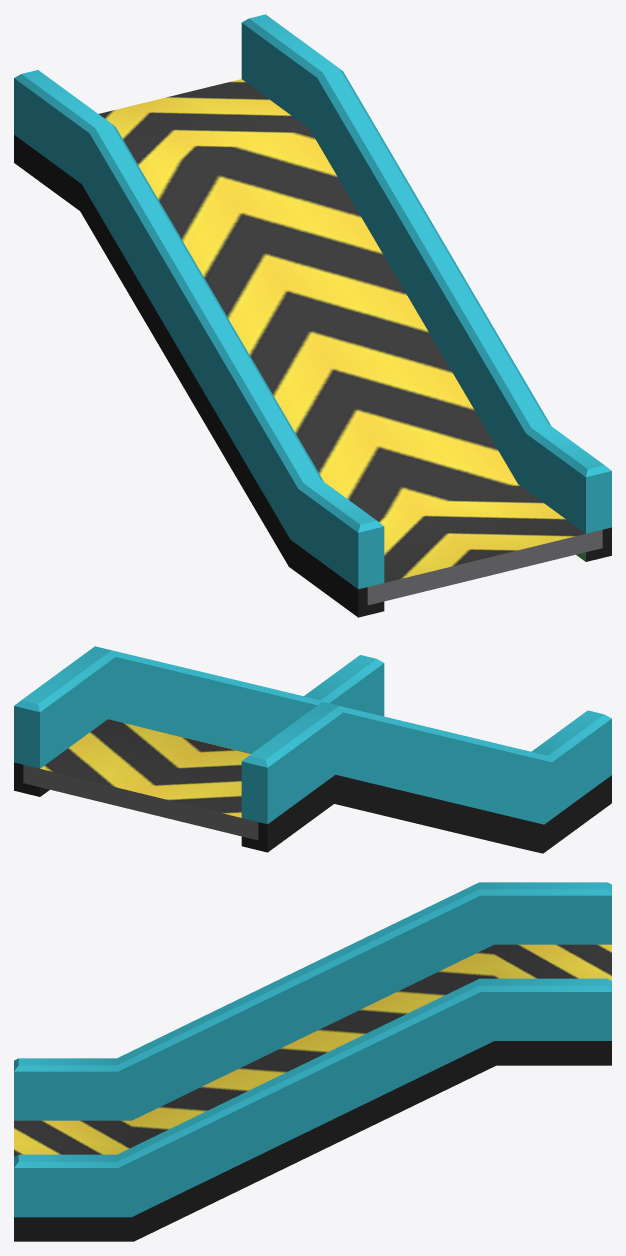
The model's file is thang may up.fbx.
The picture shows the model from 3 angles, top to bottom: view 1: azimuth 30°, elevation 25°; view 2: azimuth 150°, elevation 25°; view 3: azimuth 270°, elevation 25°; orthographic projection. The views are drawn at different scales.
Parts seen in each view (by area): view 1: thang_may_up; view 2: thang_may_up; view 3: thang_may_up.
Part boxes in pixels (box(x1,y1,x2,y2)): thang_may_up: box(14, 14, 611, 617); thang_may_up: box(14, 646, 611, 853); thang_may_up: box(14, 882, 611, 1241).
Bounding box in the file's own units: 21.65 × 23.79 × 50.77.
1 material, 1 textured.
